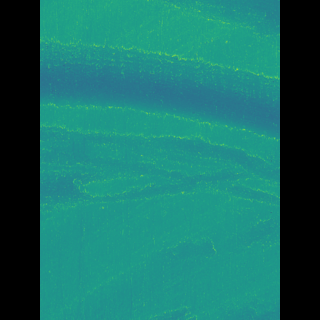Loch: (68, 32, 249, 139), (67, 121, 249, 216), (158, 0, 250, 35)
